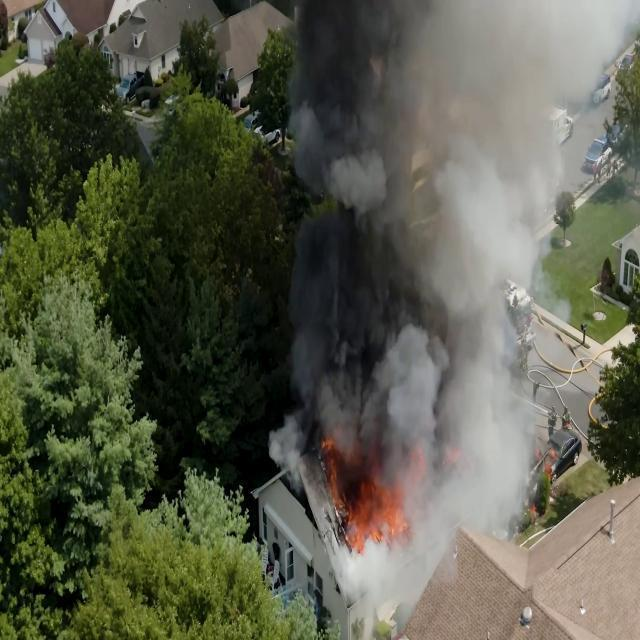Fire: (330, 442, 406, 542)
Smoke: (309, 0, 504, 168), (311, 217, 430, 409)
